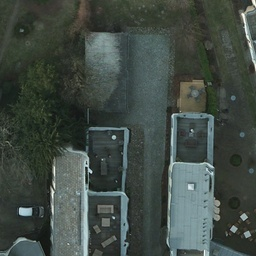car: (18, 205, 46, 220)
